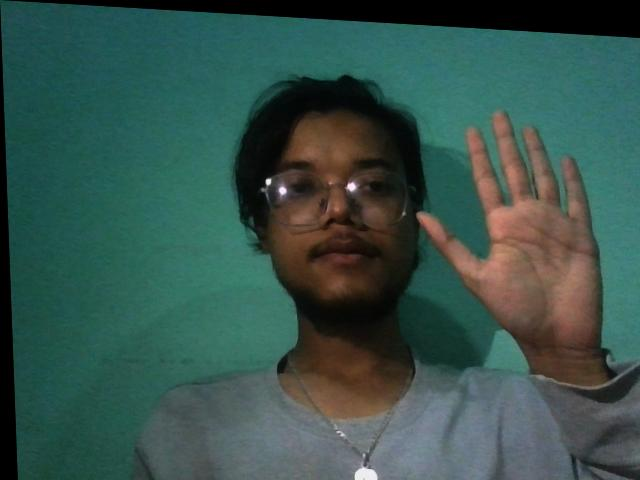hello: (404, 90, 636, 408)
